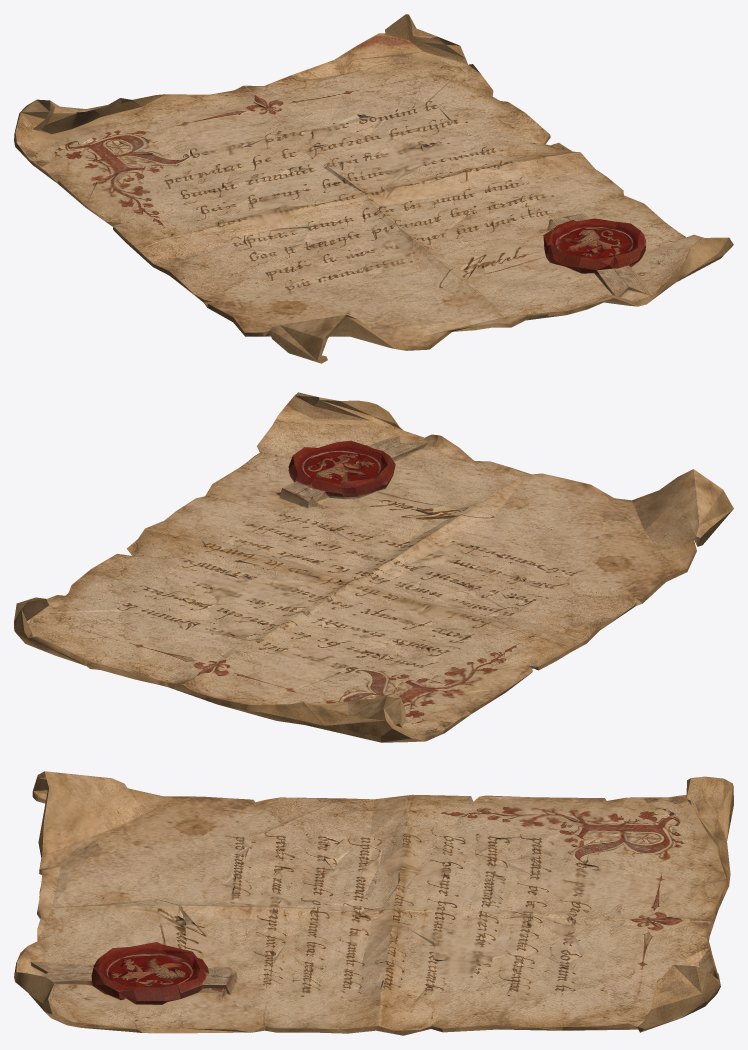
Rendered from parchment.glb.
The picture shows the model from 3 angles, top to bottom: view 1: azimuth 30°, elevation 25°; view 2: azimuth 150°, elevation 25°; view 3: azimuth 270°, elevation 25°; orthographic projection. The views are drawn at different scales.
Bounding box in the file's own units: 1.49 × 0.1744 × 1.89.
1 material, 1 textured.
